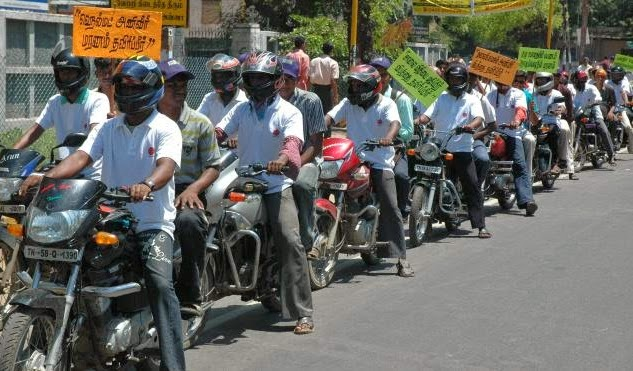helmet: (116, 59, 166, 112), (236, 49, 283, 95), (338, 65, 381, 107), (51, 51, 87, 91), (445, 66, 468, 91), (608, 64, 626, 80)
